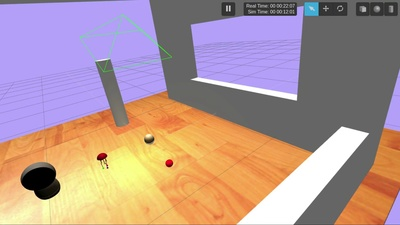mira_robot: (144, 133, 155, 144)
